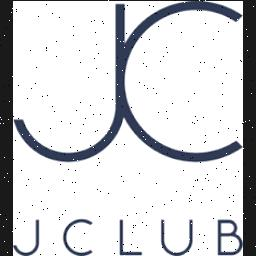b: (216, 214, 242, 256)
c: (58, 210, 102, 256)
j: (14, 214, 48, 256)
l: (114, 214, 146, 256)
u: (159, 212, 199, 256)
